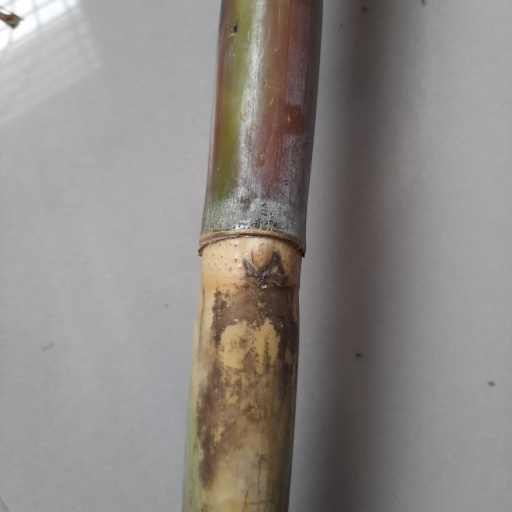Bud: (246, 241, 274, 273)
